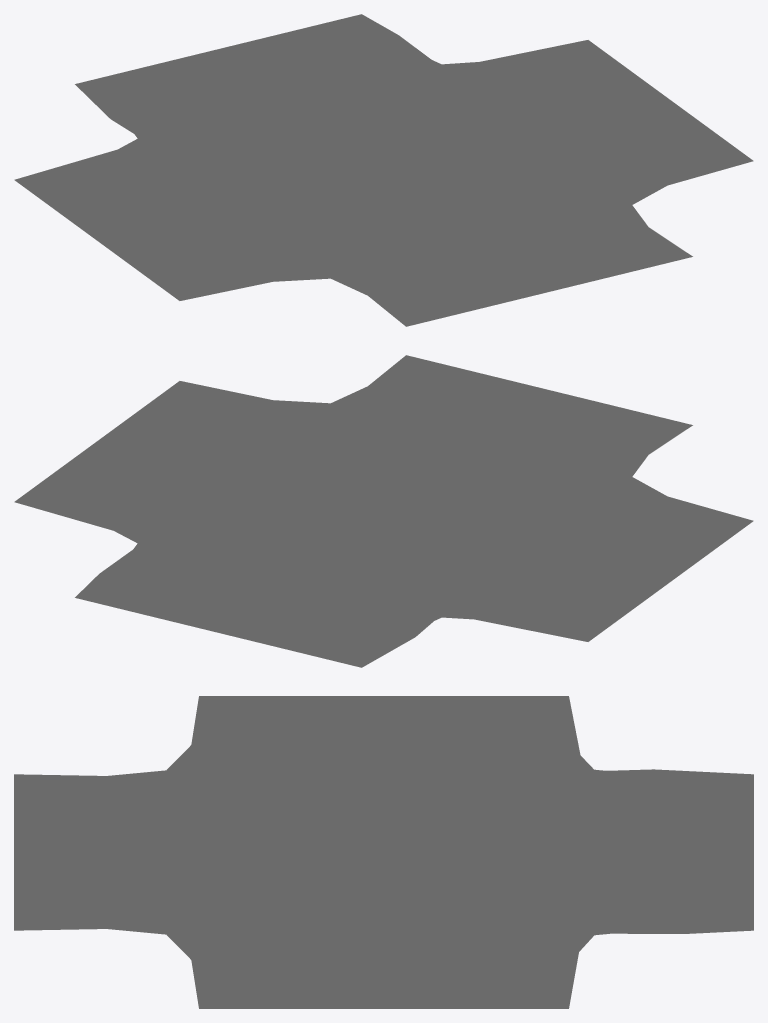
File: Path_Dirt01.FBX
The picture shows the model from 3 angles, top to bottom: view 1: azimuth 30°, elevation 25°; view 2: azimuth 150°, elevation 25°; view 3: azimuth 270°, elevation 25°; orthographic projection. The views are drawn at different scales.
Parts seen in each view (by area): view 1: Path_Dirt05, Path_Dirt01, Path_Dirt06, Path_Dirt02, Path_Dirt07, Path_Dirt04; view 2: Path_Dirt05, Path_Dirt01, Path_Dirt06, Path_Dirt02, Path_Dirt04, Path_Dirt07; view 3: Path_Dirt05, Path_Dirt01, Path_Dirt06, Path_Dirt04, Path_Dirt07, Path_Dirt02.
Boxes of the visible parts, box(x1,y1,x2,y2) form: Path_Dirt05: box(23, 14, 750, 326); Path_Dirt01: box(130, 78, 630, 272); Path_Dirt06: box(16, 150, 308, 300); Path_Dirt02: box(428, 40, 749, 204); Path_Dirt07: box(14, 40, 660, 299); Path_Dirt04: box(21, 15, 753, 290); Path_Dirt05: box(48, 355, 747, 667); Path_Dirt01: box(159, 408, 630, 615); Path_Dirt06: box(345, 488, 752, 641); Path_Dirt02: box(14, 381, 329, 540); Path_Dirt04: box(76, 381, 753, 666); Path_Dirt07: box(16, 469, 747, 620); Path_Dirt05: box(14, 696, 753, 1008); Path_Dirt01: box(152, 756, 590, 956); Path_Dirt06: box(193, 696, 580, 764); Path_Dirt04: box(199, 696, 750, 1008); Path_Dirt07: box(190, 696, 588, 1008); Path_Dirt02: box(167, 919, 568, 1008).
Bounding box in the file's own units: 300 × 0.0968 × 300.
